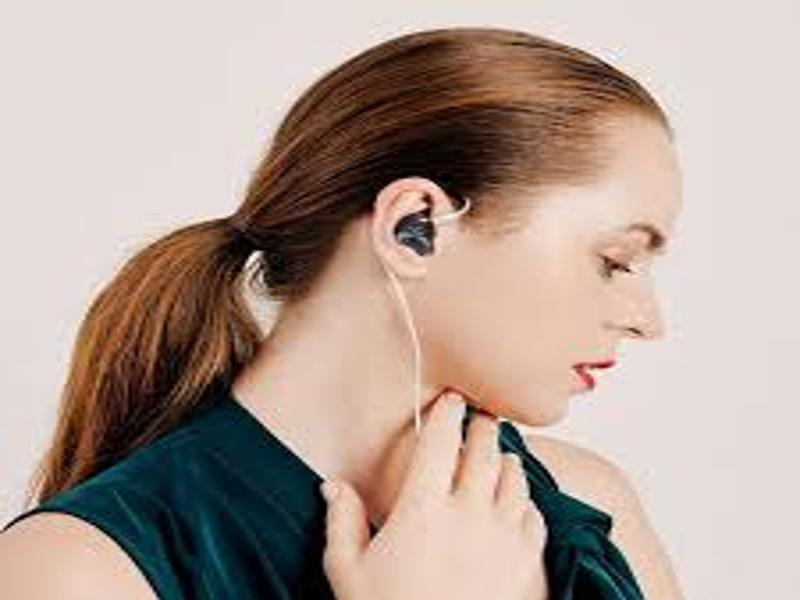headphone: (392, 213, 444, 253)
